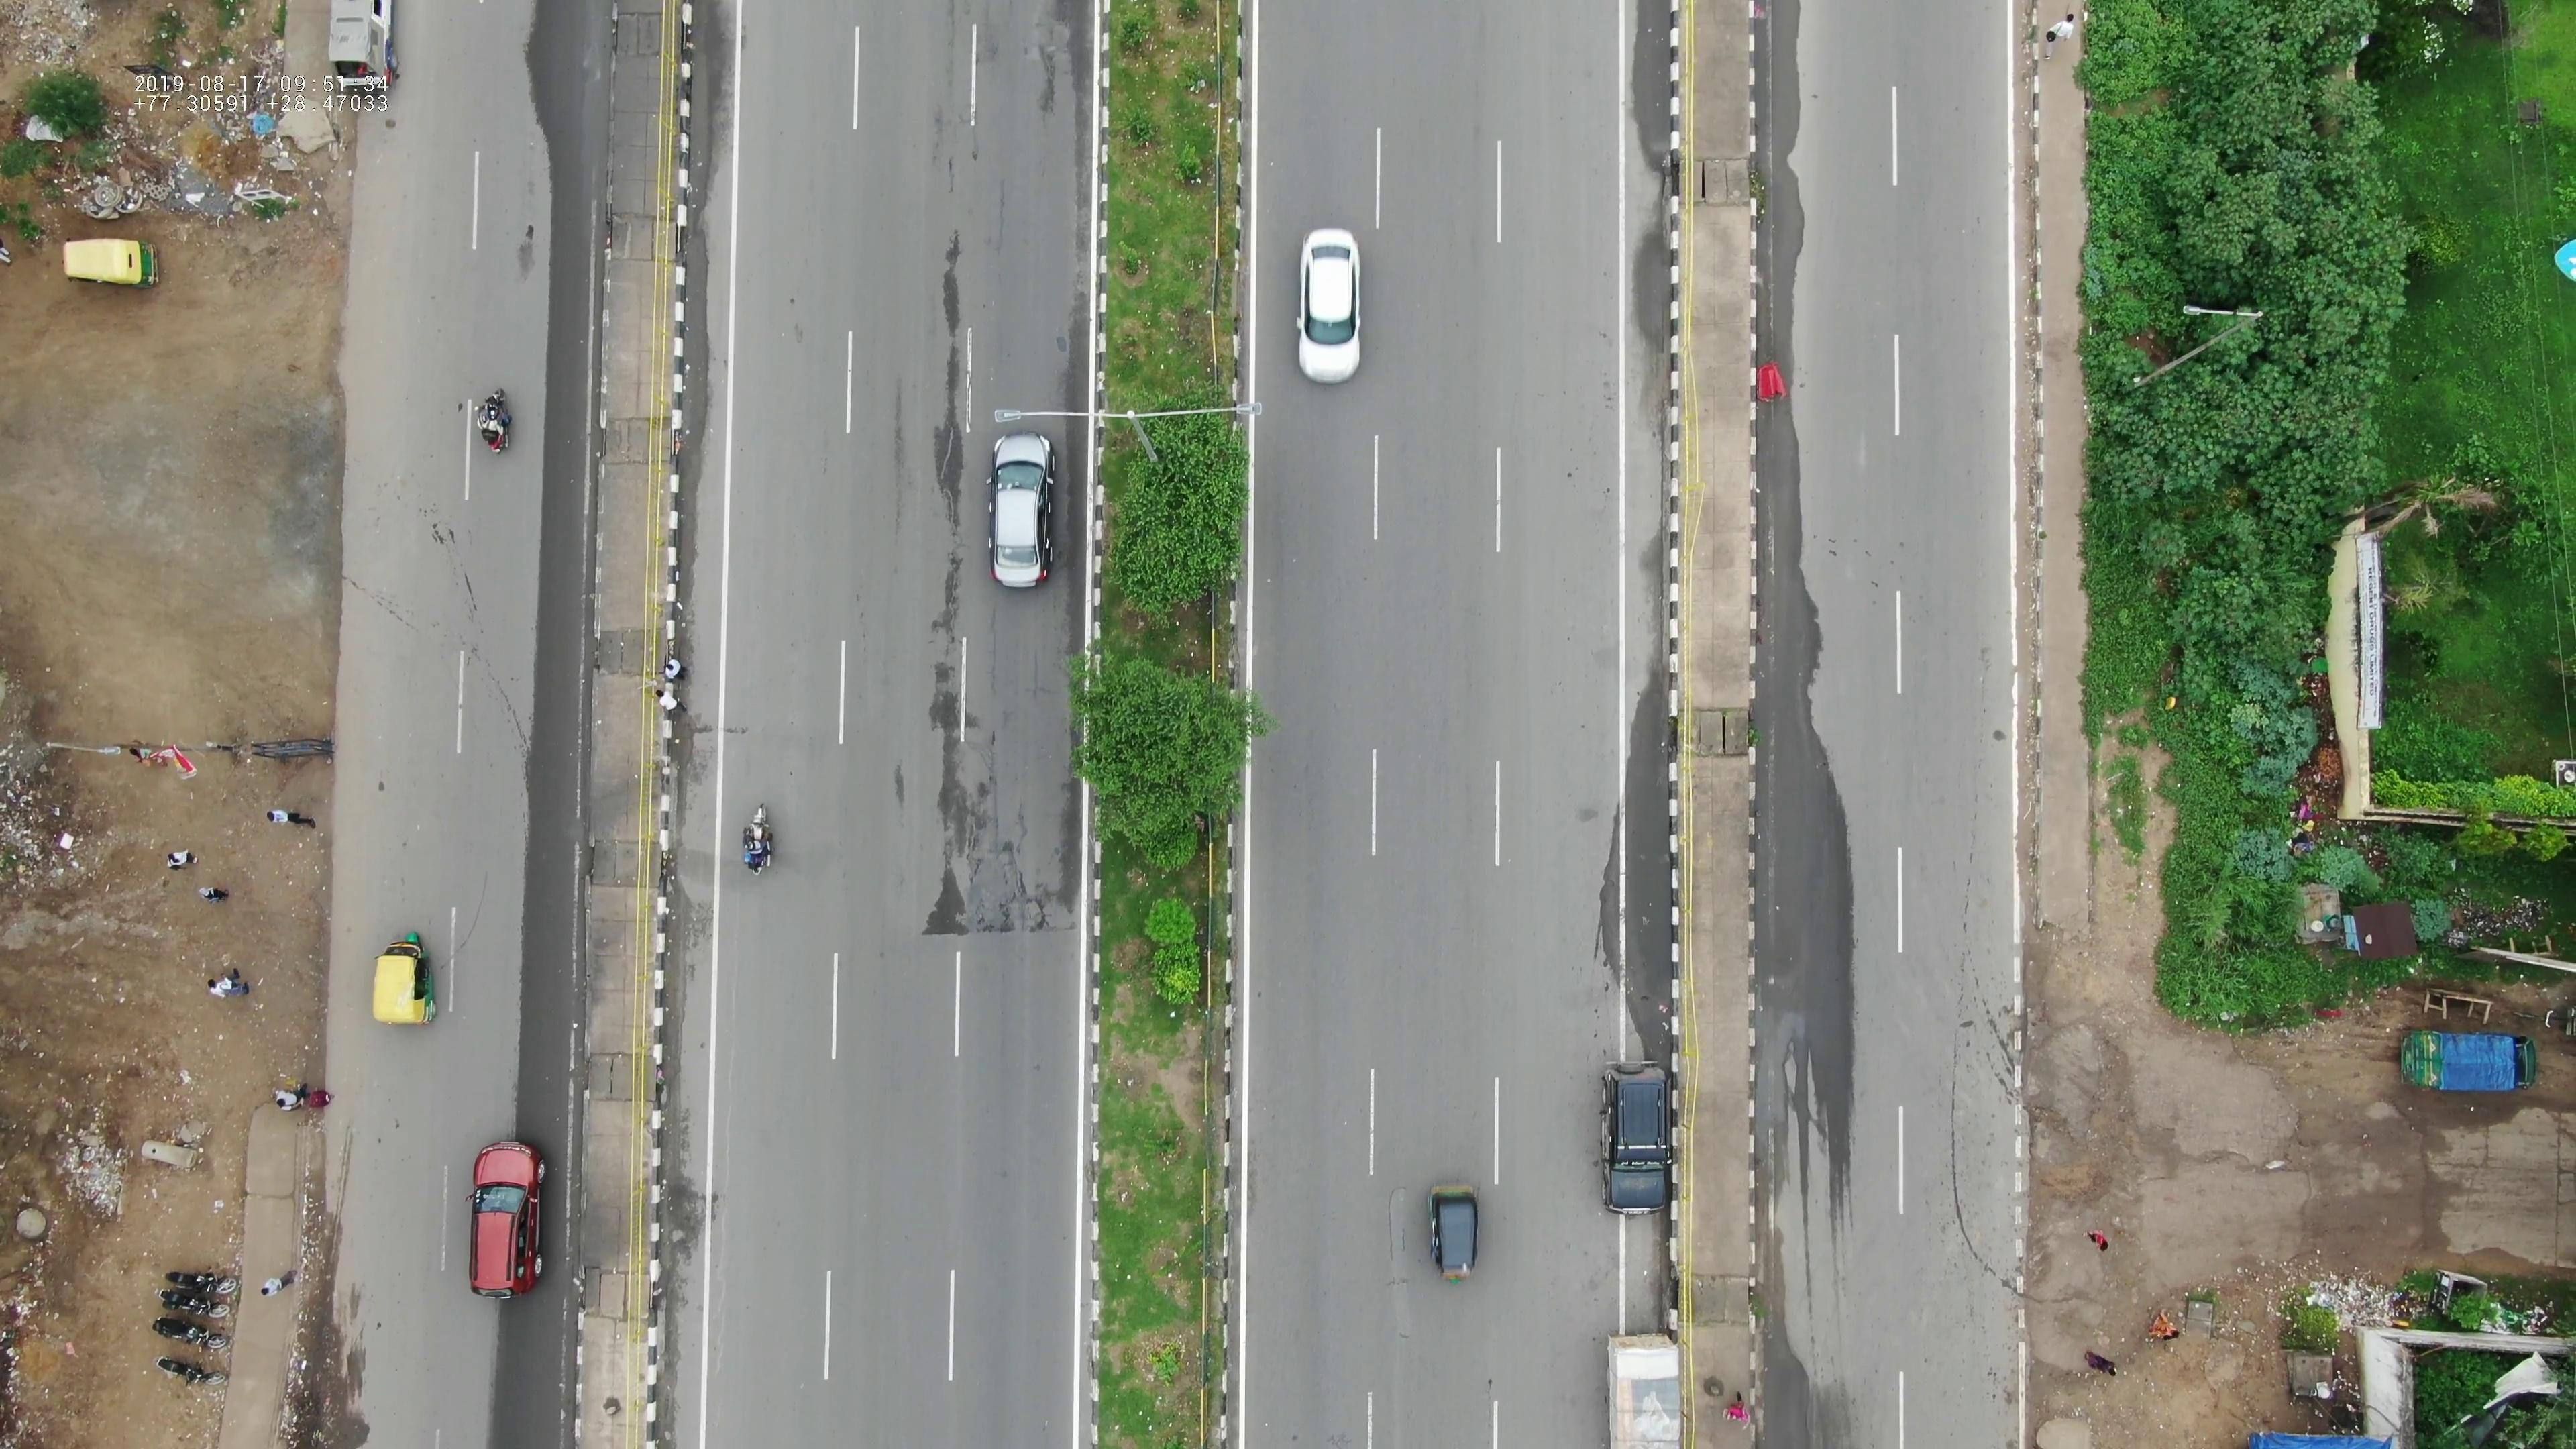Alligator_cracks: (885, 548, 1097, 954)
Ravelling: (916, 237, 971, 518)
